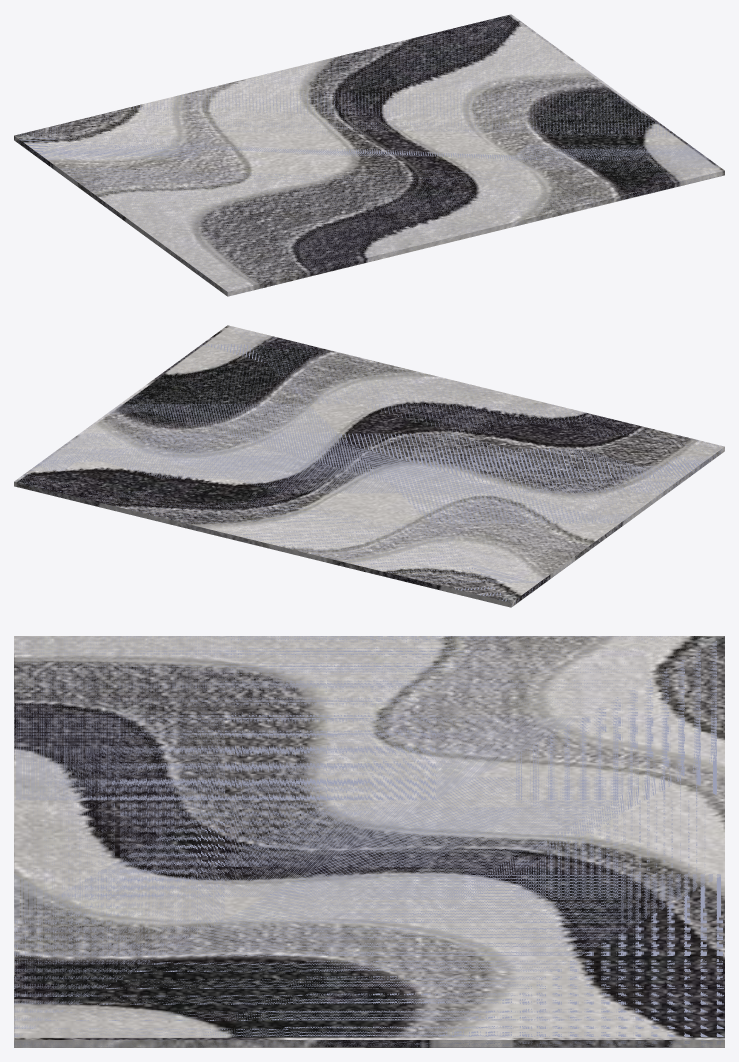
The picture shows the model from 3 angles, top to bottom: view 1: azimuth 30°, elevation 25°; view 2: azimuth 150°, elevation 25°; view 3: azimuth 270°, elevation 25°; orthographic projection. The views are drawn at different scales.
Parts seen in each view (by area): view 1: SketchUp; view 2: SketchUp; view 3: SketchUp.
Part boxes in pixels (box(x1,y1,x2,y2)): SketchUp: box(14, 14, 724, 296); SketchUp: box(14, 325, 724, 607); SketchUp: box(14, 636, 724, 1047).
Size of the model in its own units: 95.75 by 71.25 by 0.875.
